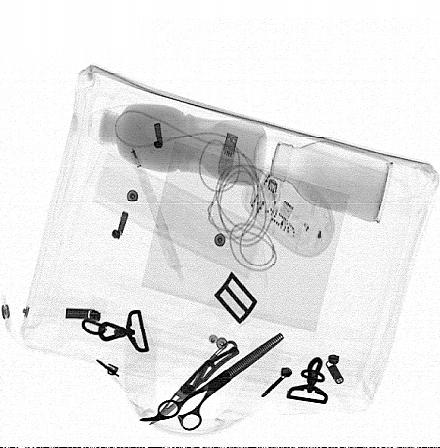Knife: (148, 338, 240, 426)
Scissors: (137, 331, 286, 432)
